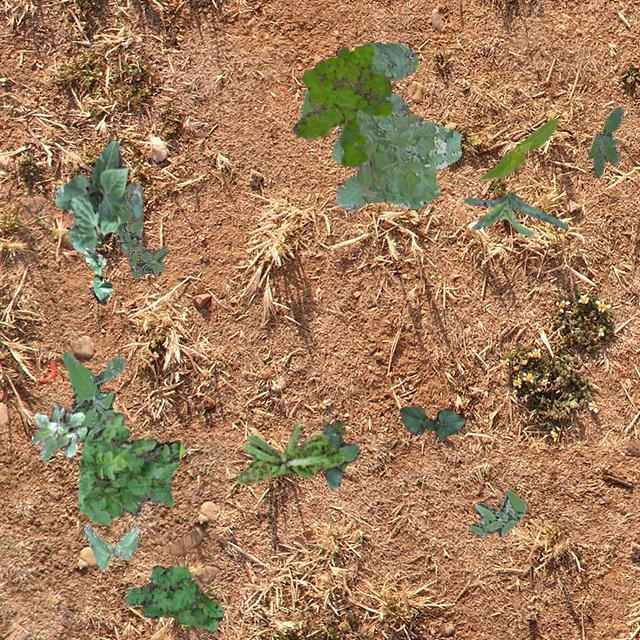crop: (52, 140, 142, 252), (480, 118, 558, 180), (464, 192, 566, 234), (84, 524, 138, 570), (398, 406, 464, 438), (84, 246, 112, 304)
weed: (298, 42, 461, 210), (292, 44, 392, 165), (76, 412, 182, 524), (234, 422, 344, 482), (124, 564, 222, 630), (62, 350, 124, 444), (114, 182, 168, 276), (30, 402, 86, 461), (468, 488, 526, 536), (586, 106, 622, 176), (322, 426, 358, 488), (321, 418, 347, 471)
